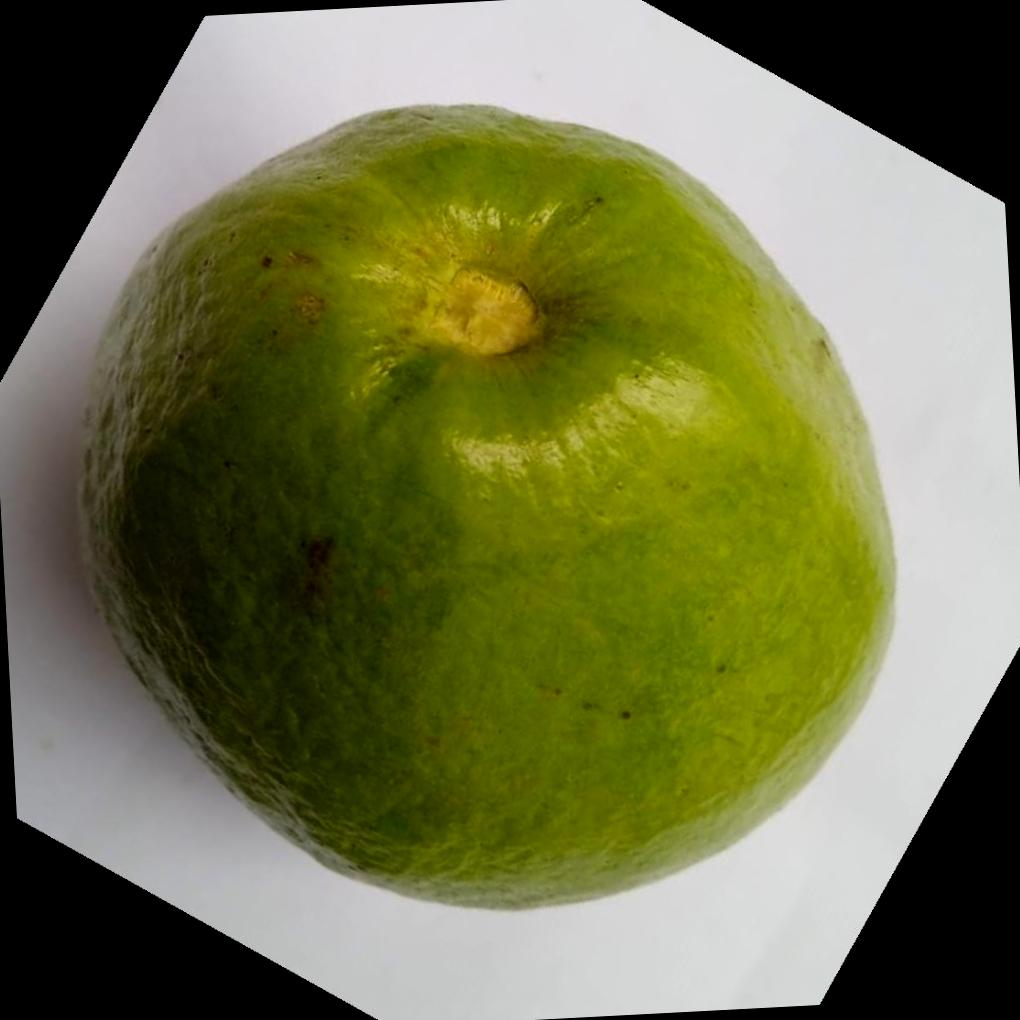FreshGuava: (68, 98, 896, 914)
